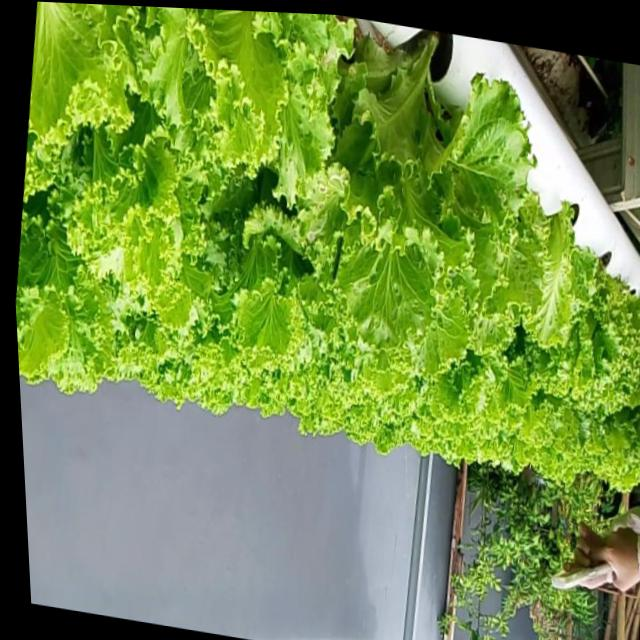Mature: (16, 2, 640, 479), (307, 46, 504, 341), (509, 219, 640, 436)
